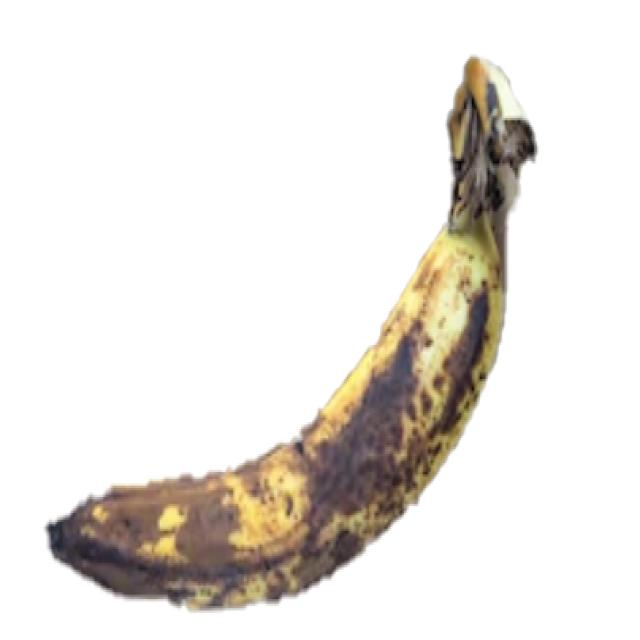rotten-banana: (44, 52, 537, 613)
